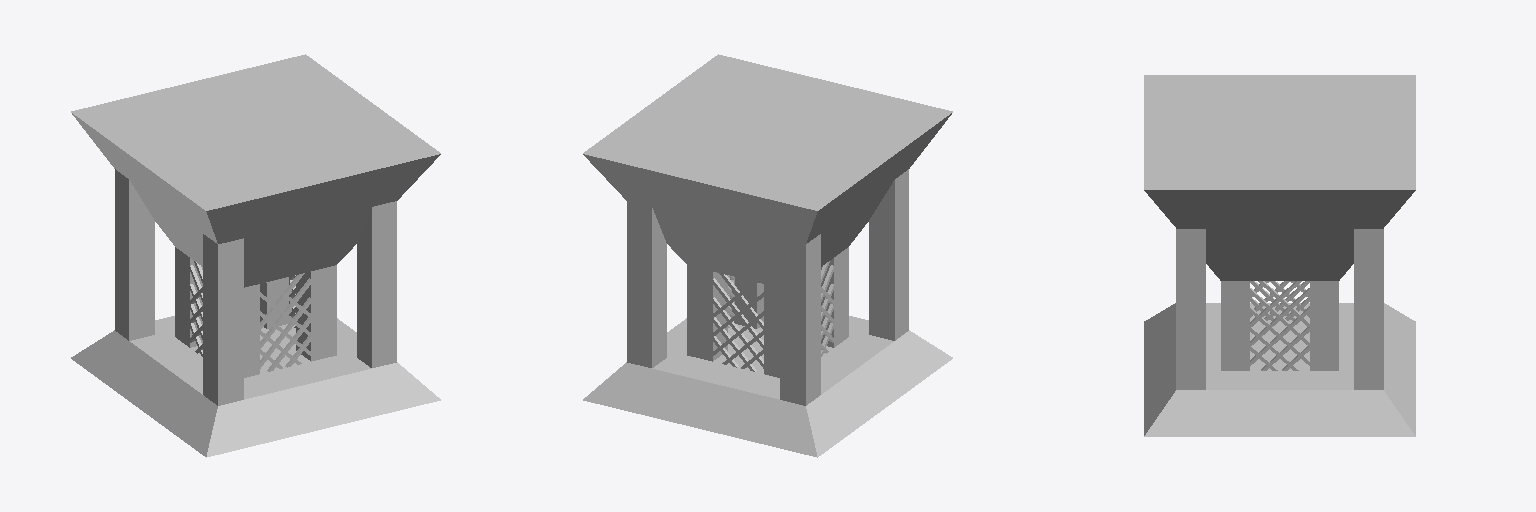
Rendered from smallWarheadStation.obj.
3 views of the same model, side by side, from view 1: azimuth 30°, elevation 25°; view 2: azimuth 150°, elevation 25°; view 3: azimuth 270°, elevation 25° (orthographic).
Visible parts, largest first — view 1: Armory_Rocket_Launcher; view 2: Armory_Rocket_Launcher; view 3: Armory_Rocket_Launcher.
Part boxes in pixels (x1,y1,x2,y2): Armory_Rocket_Launcher: (71, 54, 440, 457); Armory_Rocket_Launcher: (583, 54, 952, 457); Armory_Rocket_Launcher: (1144, 75, 1415, 436).
Bounding box in the file's own units: 1 × 1 × 1.